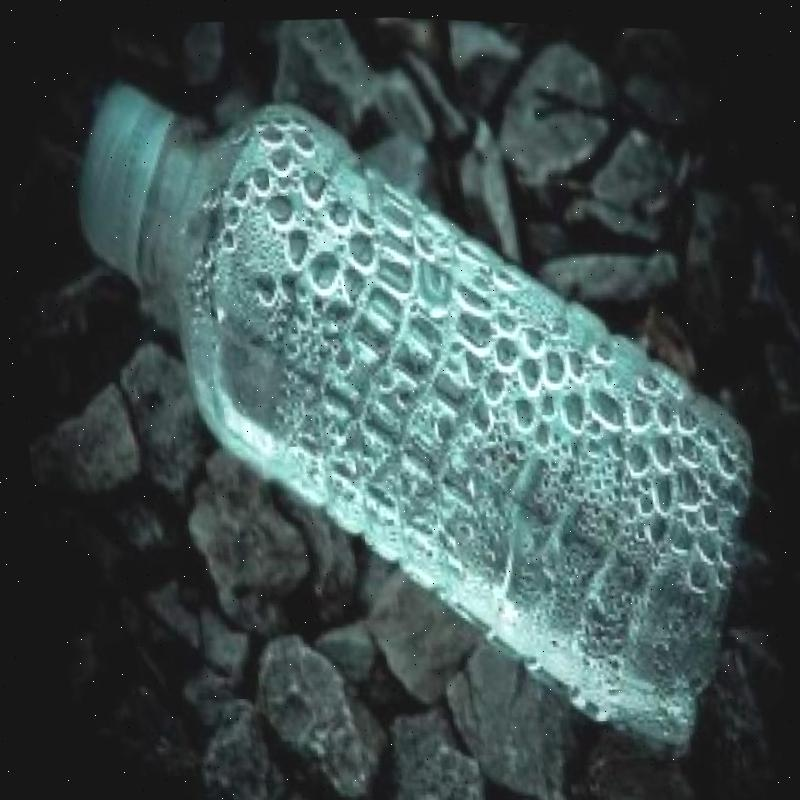botella: (61, 37, 788, 784)
